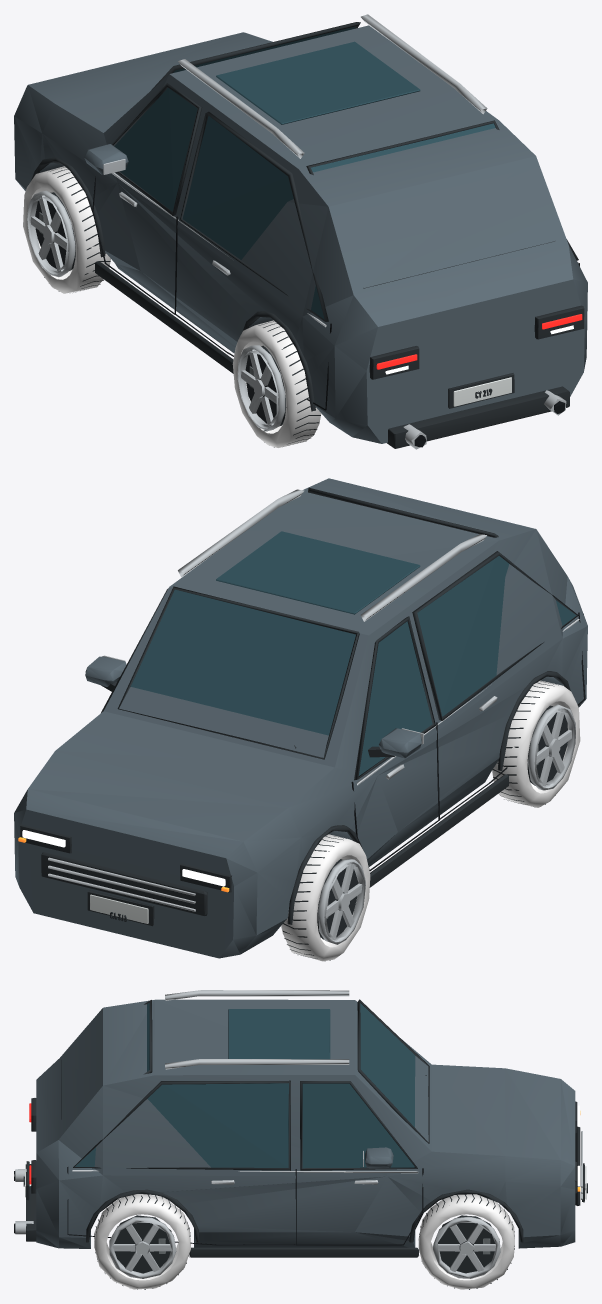
File: vehicle_cayo_utility_suv_lod2.glb
The picture shows the model from 3 angles, top to bottom: view 1: azimuth 30°, elevation 25°; view 2: azimuth 150°, elevation 25°; view 3: azimuth 270°, elevation 25°; orthographic projection. The views are drawn at different scales.
Visible parts, largest first — view 1: vehicle_lod2; view 2: vehicle_lod2; view 3: vehicle_lod2.
Boxes of the visible parts, left/top/right/bottom form: vehicle_lod2: left=14, top=14, right=587, bottom=449; vehicle_lod2: left=14, top=478, right=587, bottom=961; vehicle_lod2: left=14, top=990, right=587, bottom=1289.
Bounding box in the file's own units: 2.57 × 2.07 × 5.08.
